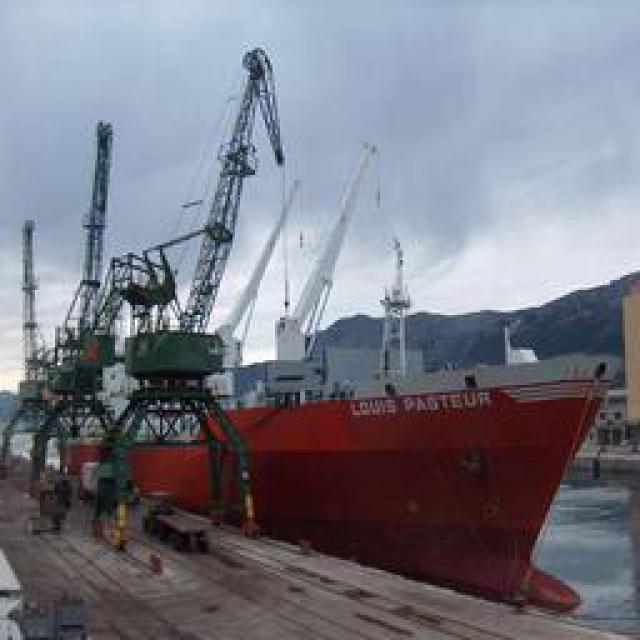Ship: (69, 305, 626, 616)
